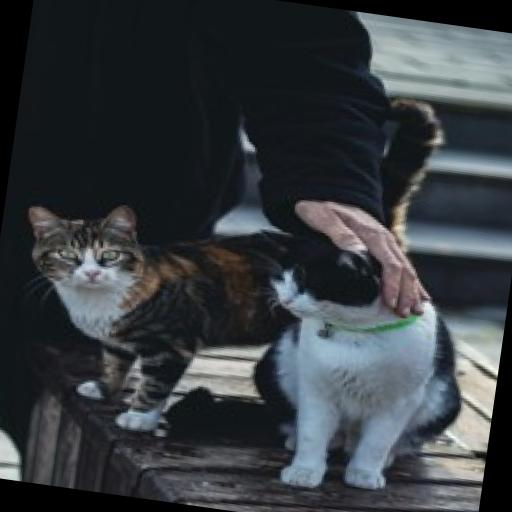cat: (0, 45, 451, 470), (229, 217, 484, 512)
